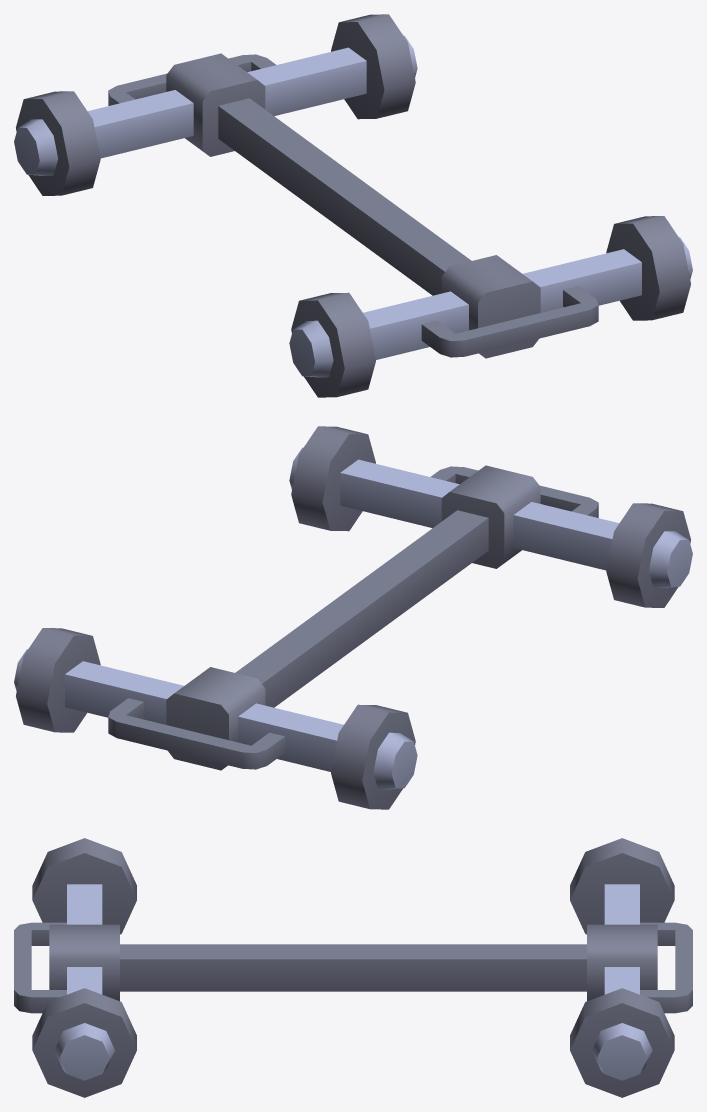
File: debris-drivetrain.glb
3 renders of one model, top to bottom at view 1: azimuth 30°, elevation 25°; view 2: azimuth 150°, elevation 25°; view 3: azimuth 270°, elevation 25°, orthographic. The views are drawn at different scales.
Visible parts, largest first — view 1: debris-drivetrain; view 2: debris-drivetrain; view 3: debris-drivetrain.
Boxes of the visible parts, left/top/right/bottom form: debris-drivetrain: left=14, top=14, right=692, bottom=397; debris-drivetrain: left=14, top=426, right=692, bottom=809; debris-drivetrain: left=14, top=838, right=692, bottom=1097.
Bounding box in the file's own units: 1.2 × 0.296 × 1.92.
Materials: 1 (1 with a texture image).
